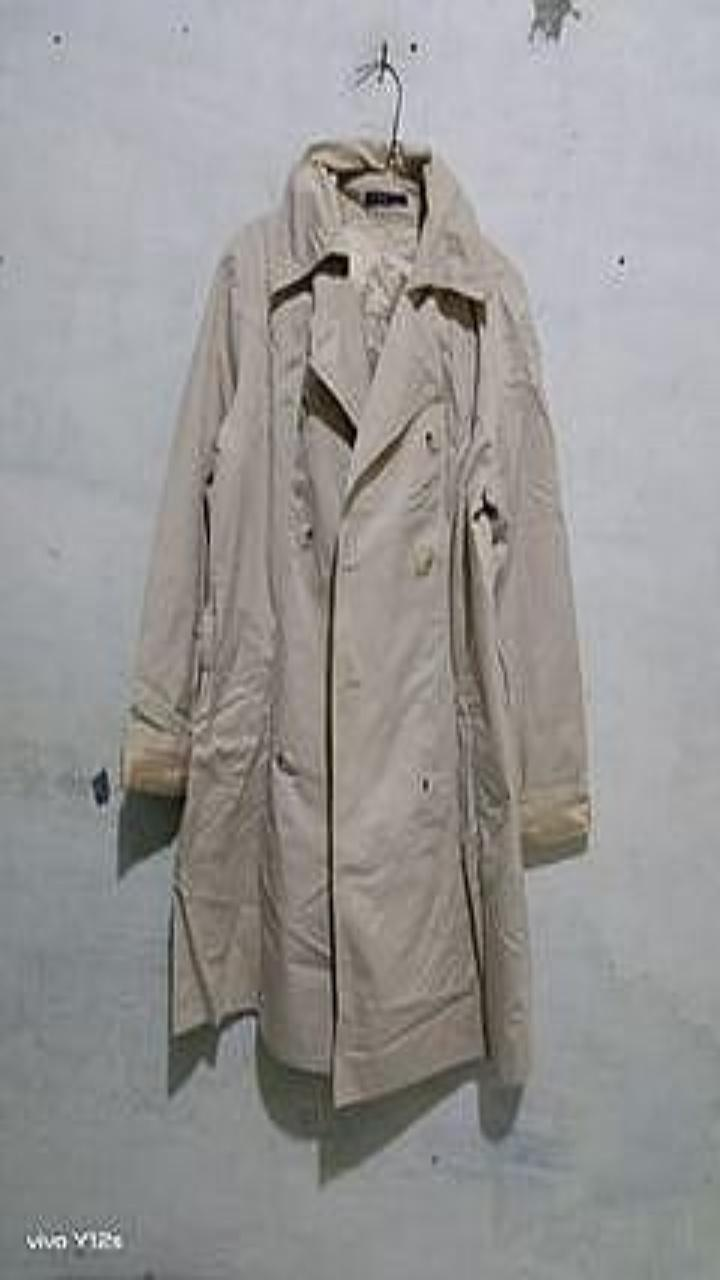Coat: (120, 138, 590, 1106)
